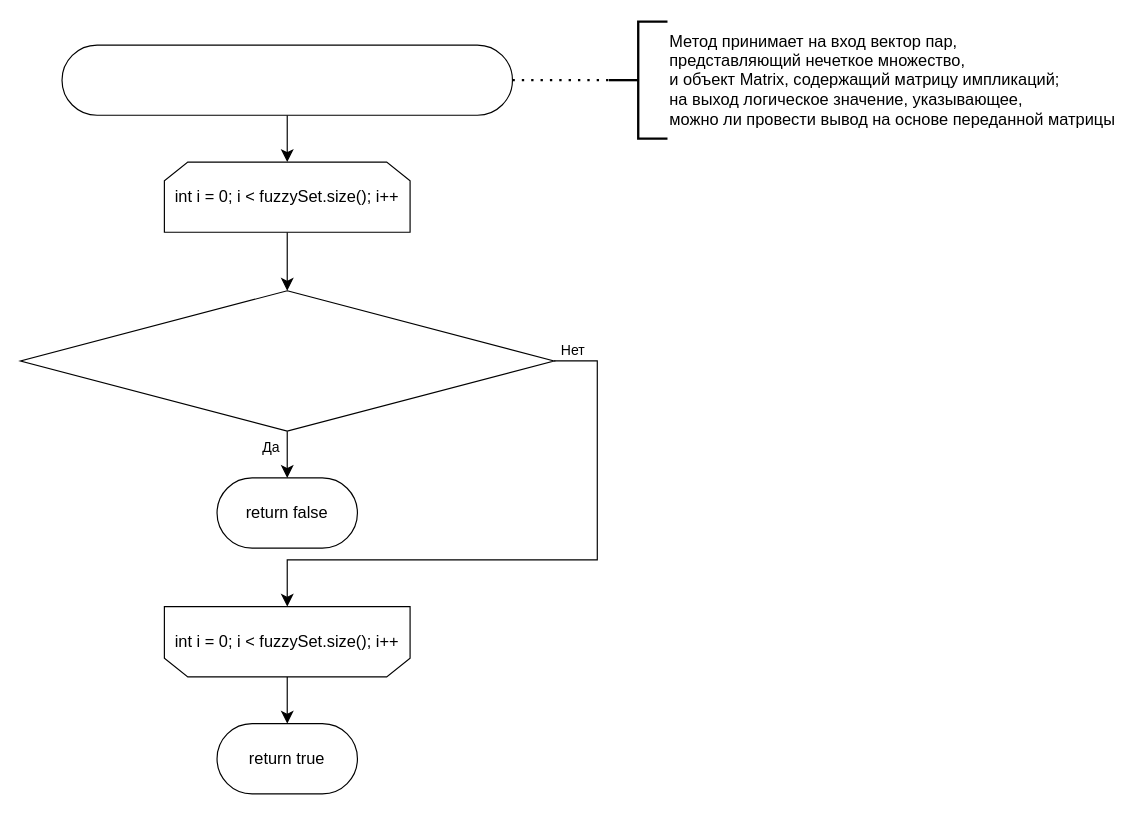
This 1136x814 diagram has some shape labels left out. The centre of each missing label's shape, as x and y in pixels:
"canConclusion(vector<pair<string,double>>& fuzzySet, Matrix& matrix)" belongs at point (286, 79).
"matrix.matr.find(fuzzySet[i].first) == matrix.matr.end()" belongs at point (286, 360).
